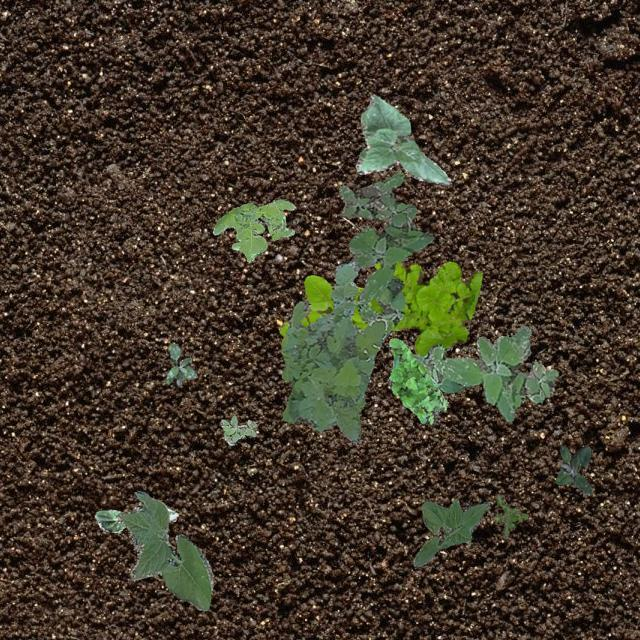crop: (118, 490, 212, 610), (354, 92, 450, 184), (412, 498, 490, 566), (94, 506, 176, 532)
weed: (278, 260, 482, 356), (280, 260, 386, 442), (338, 172, 432, 338), (412, 326, 558, 420), (212, 198, 294, 262), (386, 338, 446, 424), (554, 444, 590, 494), (494, 494, 526, 536), (164, 342, 196, 384), (218, 414, 256, 444)
